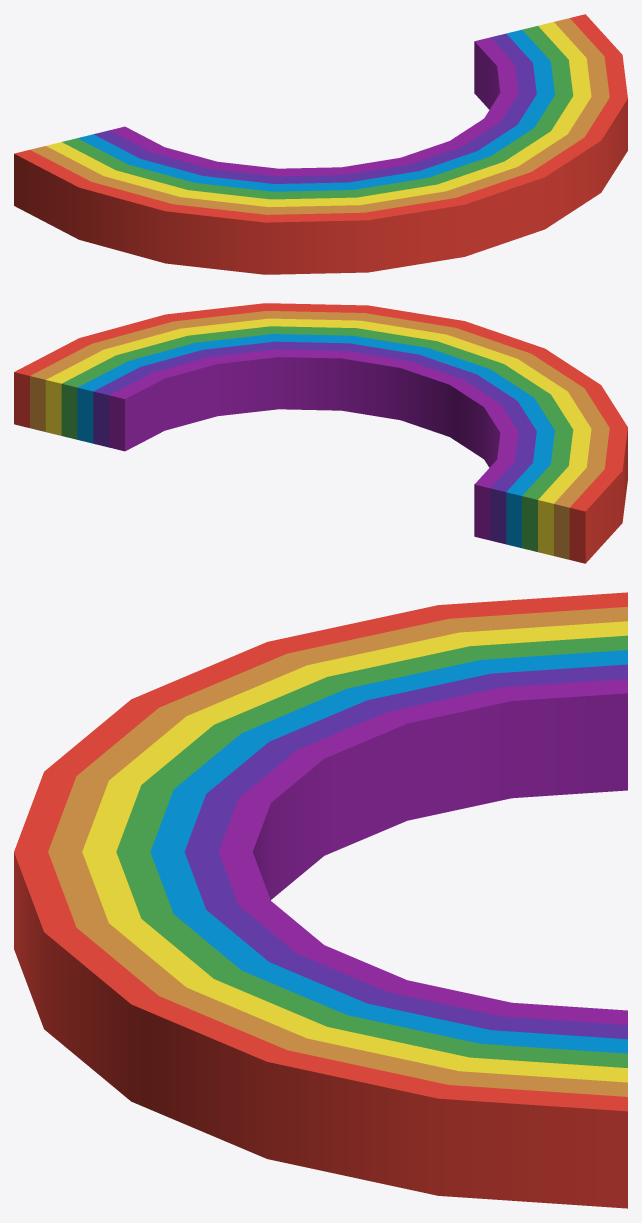
Rendered from asset.gltf.
3 renders of one model, top to bottom at view 1: azimuth 30°, elevation 25°; view 2: azimuth 150°, elevation 25°; view 3: azimuth 270°, elevation 25°, orthographic. The views are drawn at different scales.
Visible parts, largest first — view 1: node-0; view 2: node-0; view 3: node-0.
Part boxes in pixels (left/top/right/bottom): node-0: left=14, top=14, right=627, bottom=274; node-0: left=14, top=303, right=627, bottom=563; node-0: left=14, top=592, right=627, bottom=1208.
Bounding box in the file's own units: 444 × 38.82 × 222.
